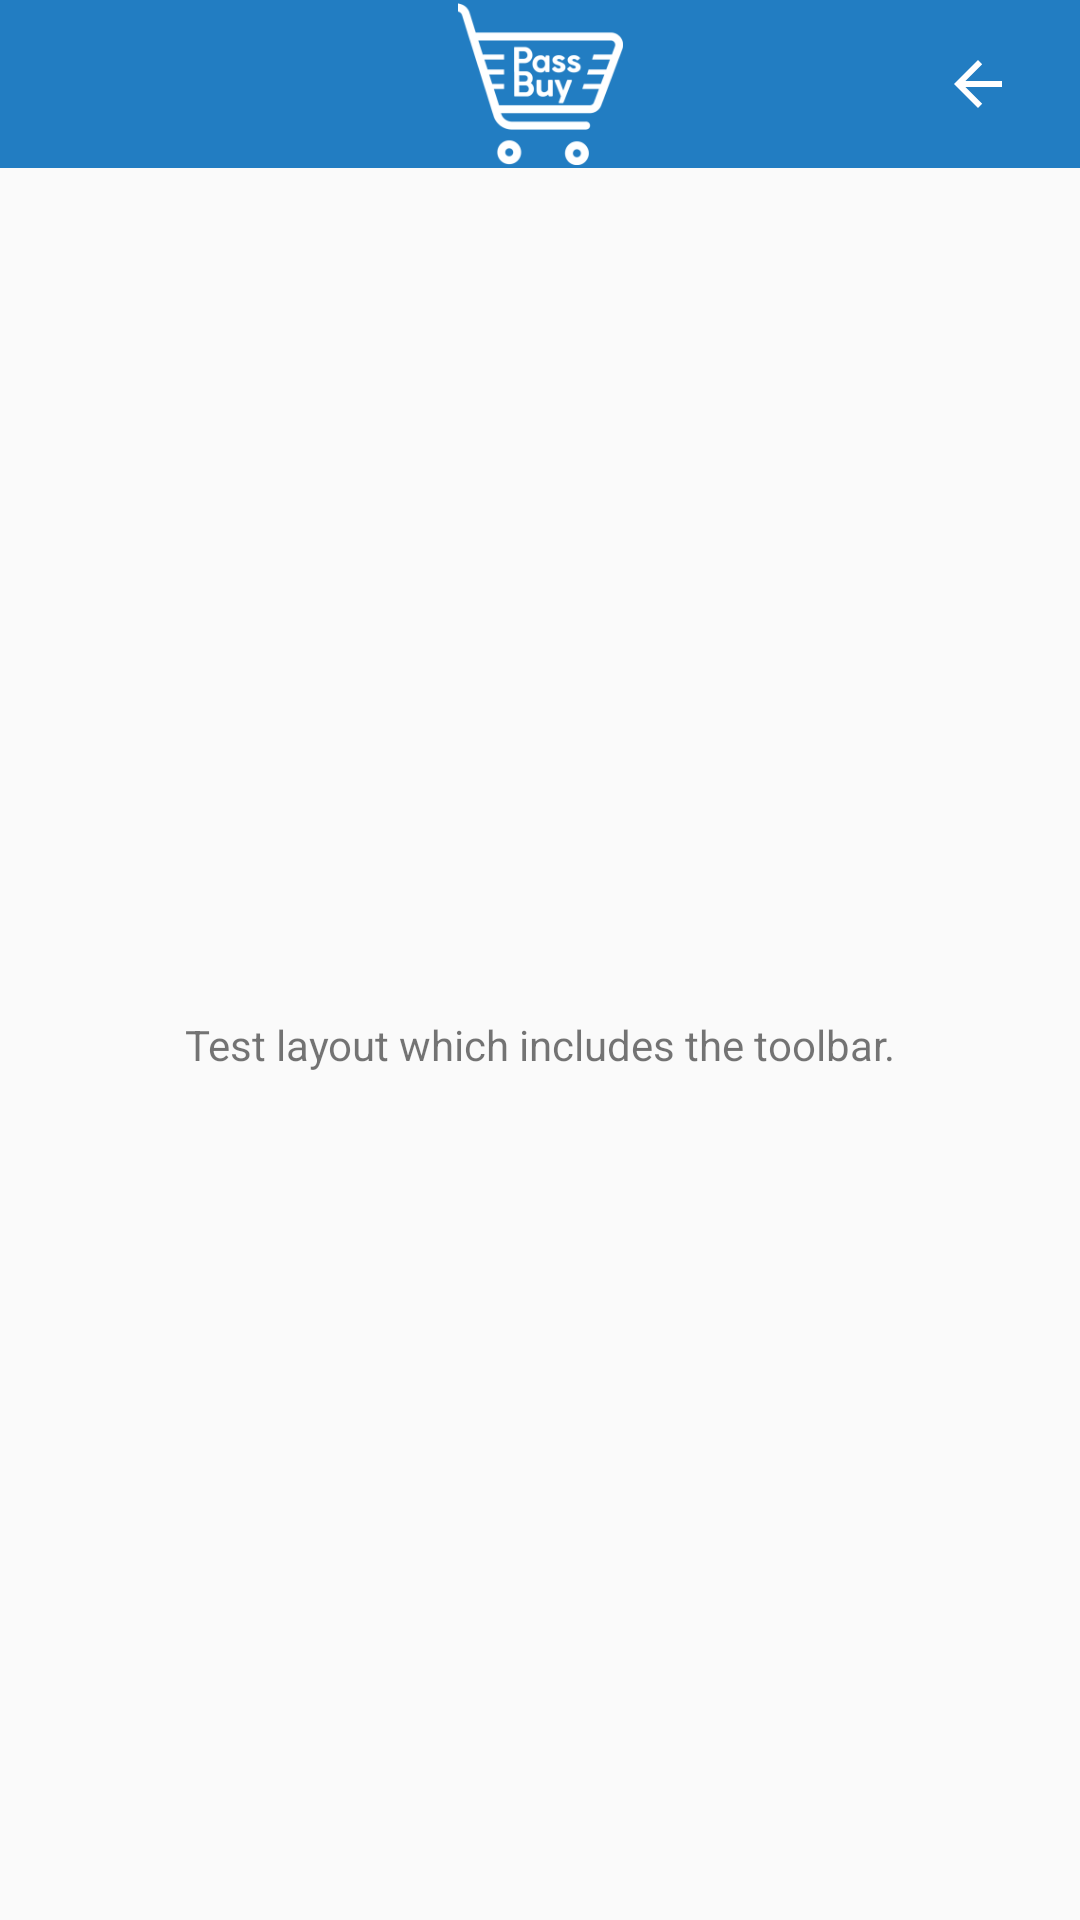

Screen size 1080x1920. Icon name, then its center in pixels as [x,y]:
back: [978,84]
